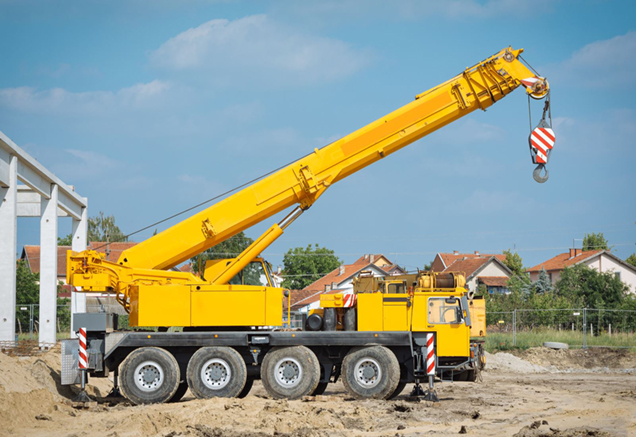crane: (56, 40, 565, 408)
